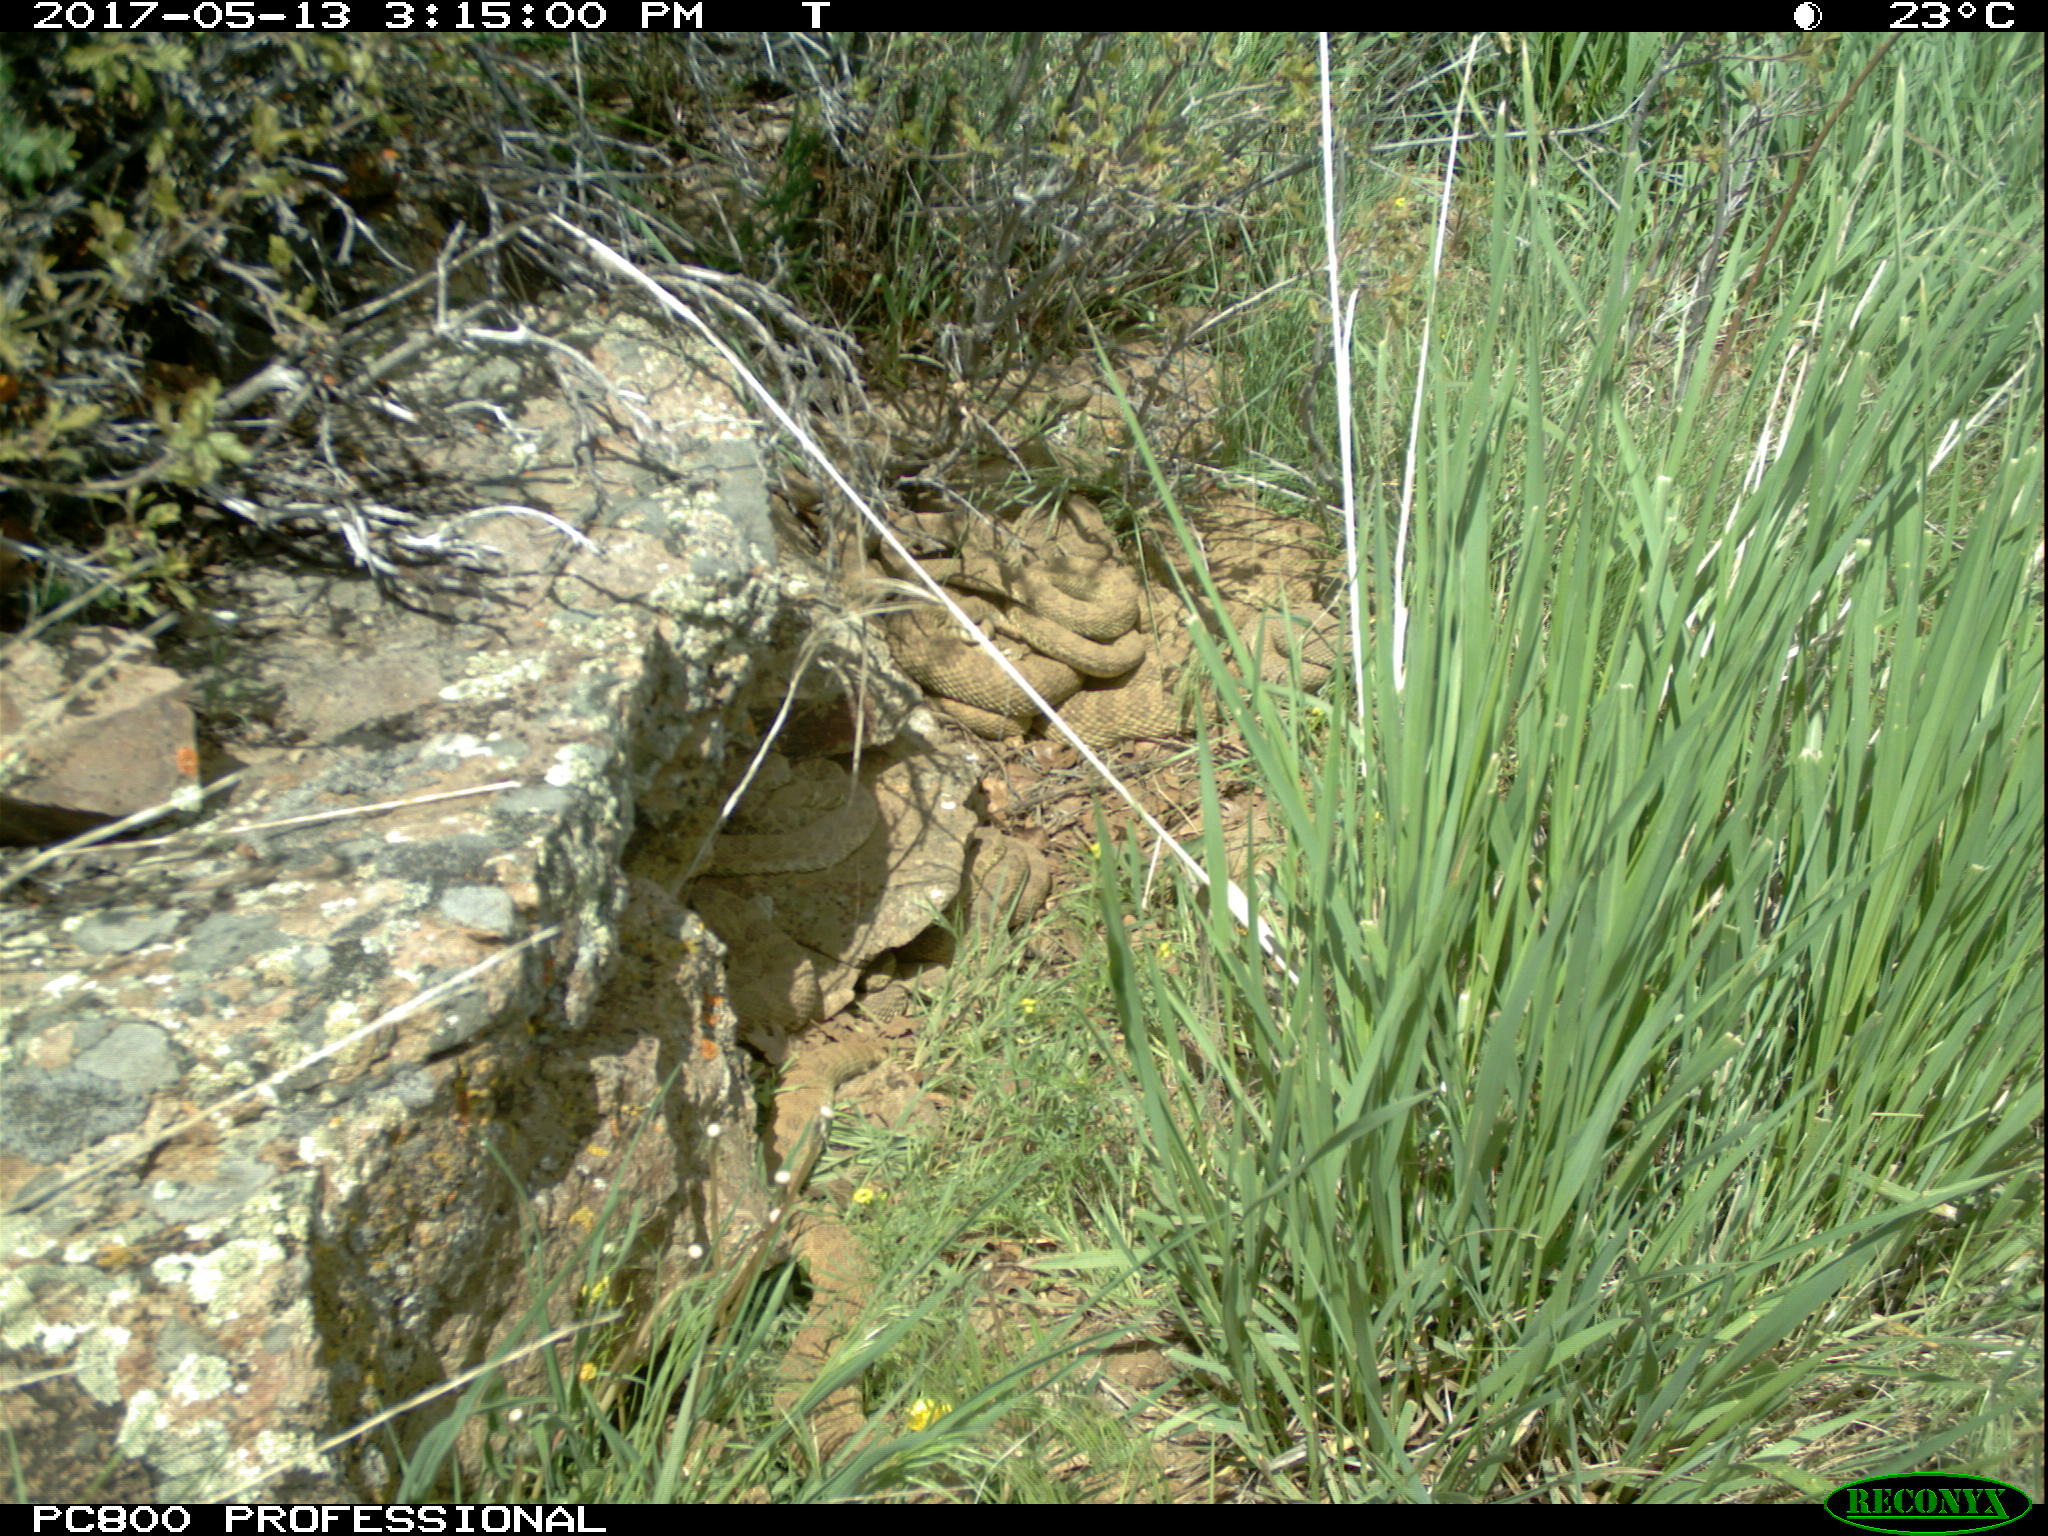snake: (784, 1212, 893, 1492), (885, 582, 1071, 733), (697, 750, 880, 878), (1147, 584, 1353, 687), (756, 1037, 880, 1205), (693, 874, 814, 1028), (998, 557, 1147, 679), (877, 502, 1047, 587), (1051, 673, 1222, 744), (963, 824, 1050, 928)
